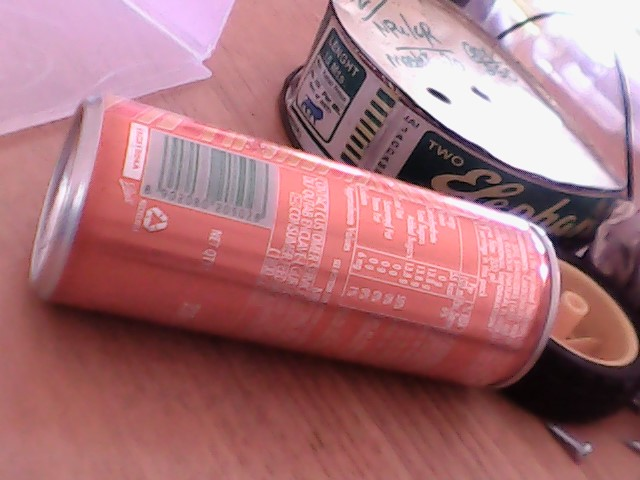Metal: (61, 103, 555, 403)
